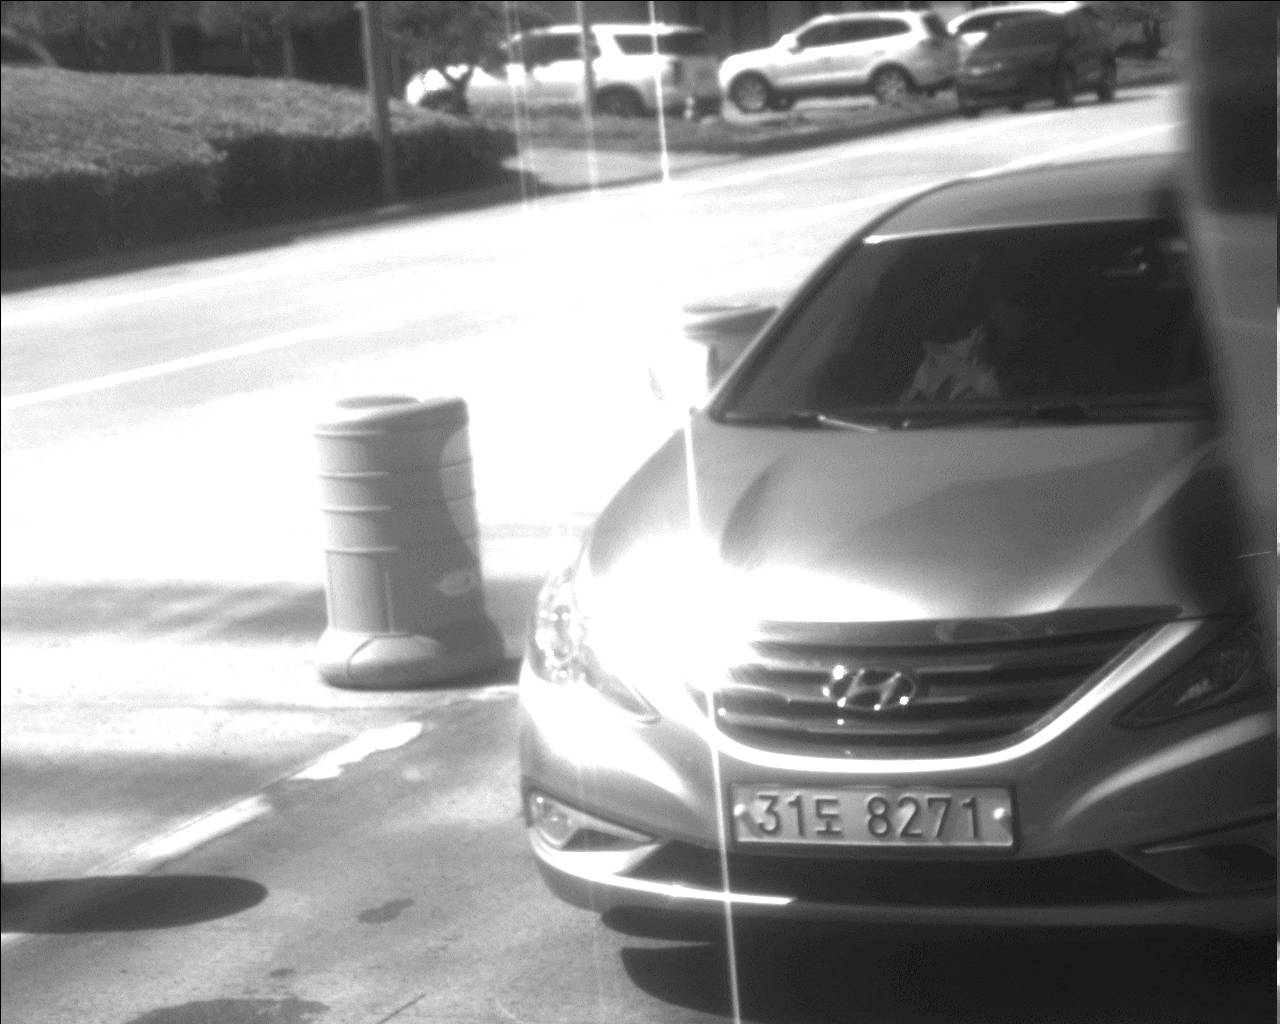car: (508, 144, 1277, 940), (399, 19, 722, 127), (709, 7, 964, 117), (942, 9, 1120, 115)
plate: (723, 775, 1023, 855)
